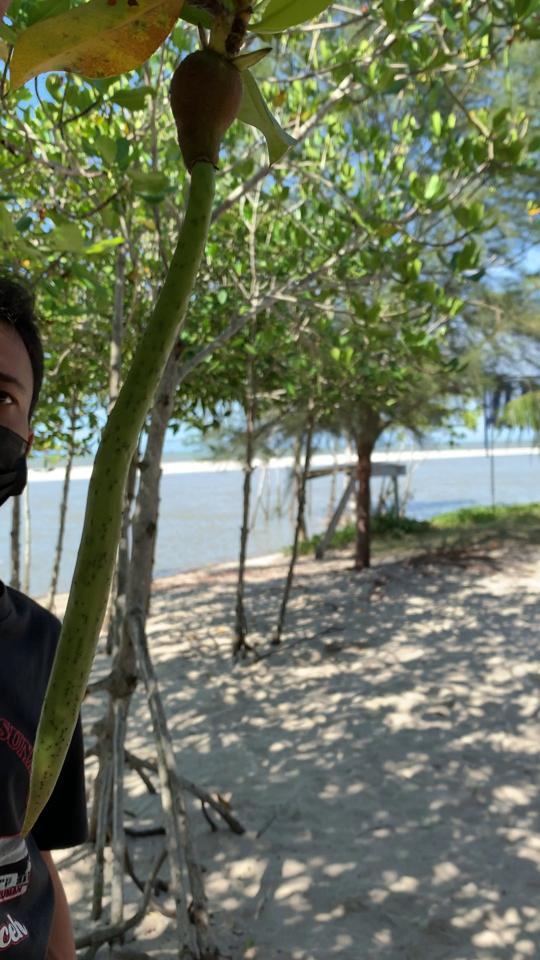mentah: (5, 27, 287, 852)
